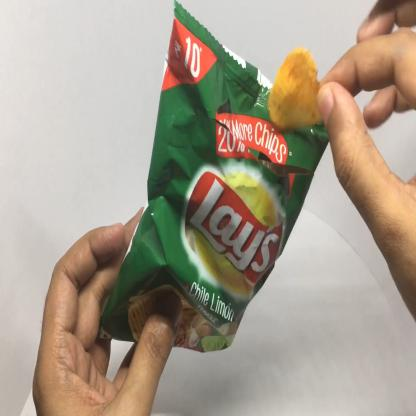chile_limon: (98, 2, 330, 352)
